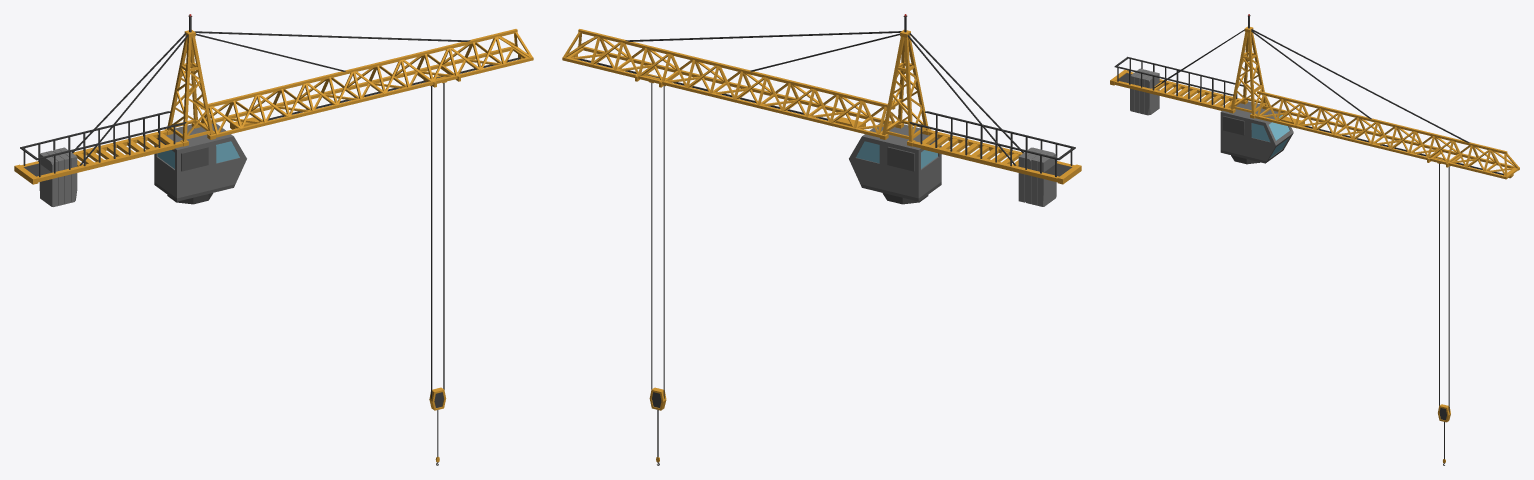
The model's file is TowerCrane_02_2.fbx.
3 renders of one model, left to right at view 1: azimuth 30°, elevation 25°; view 2: azimuth 150°, elevation 25°; view 3: azimuth 330°, elevation 25°, orthographic. The views are drawn at different scales.
Parts seen in each view (by area): view 1: TowerCrane_02_2; view 2: TowerCrane_02_2; view 3: TowerCrane_02_2.
Boxes of the visible parts, left/top/right/bottom form: TowerCrane_02_2: left=14, top=14, right=533, bottom=465; TowerCrane_02_2: left=562, top=14, right=1081, bottom=465; TowerCrane_02_2: left=1110, top=14, right=1519, bottom=465.
Bounding box in the file's own units: 2038 × 1987 × 172.
